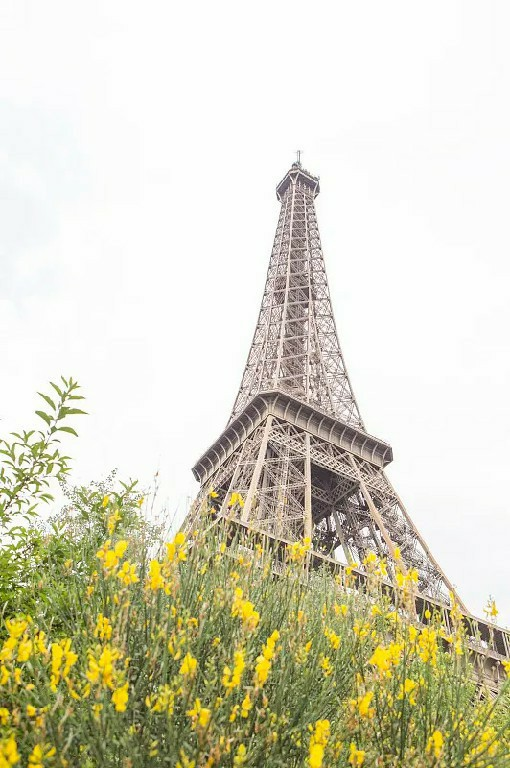Eiffel: (173, 150, 510, 713)
